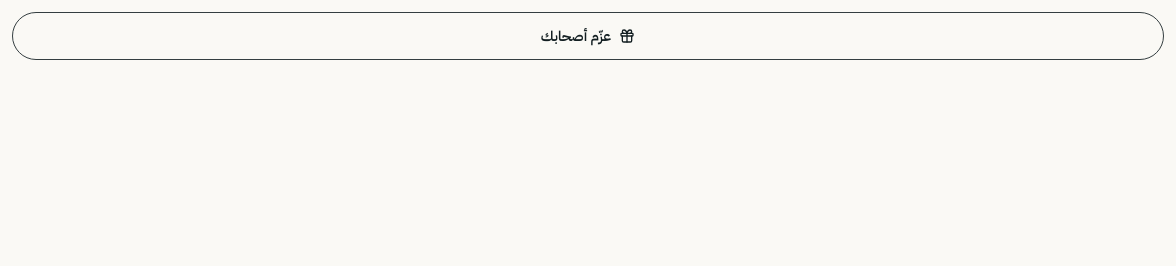
laziness › fetches the code once on open
Click the button "عزّم أصحابك" at (588, 36), box [12,12,1164,60]
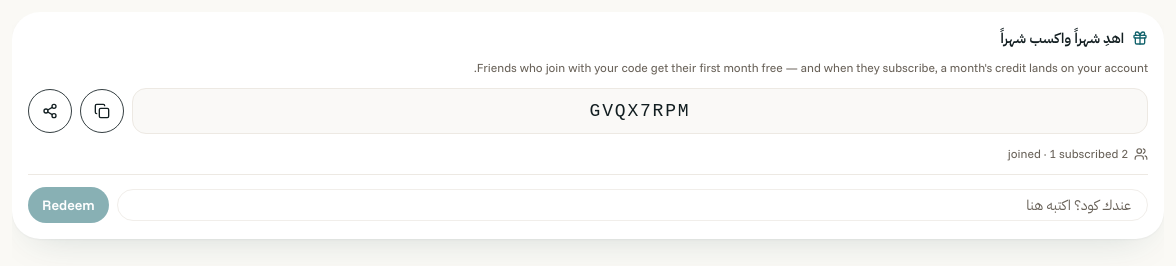
Now the text "GVQX7RPM" is shown, box [132,88,1148,134]
